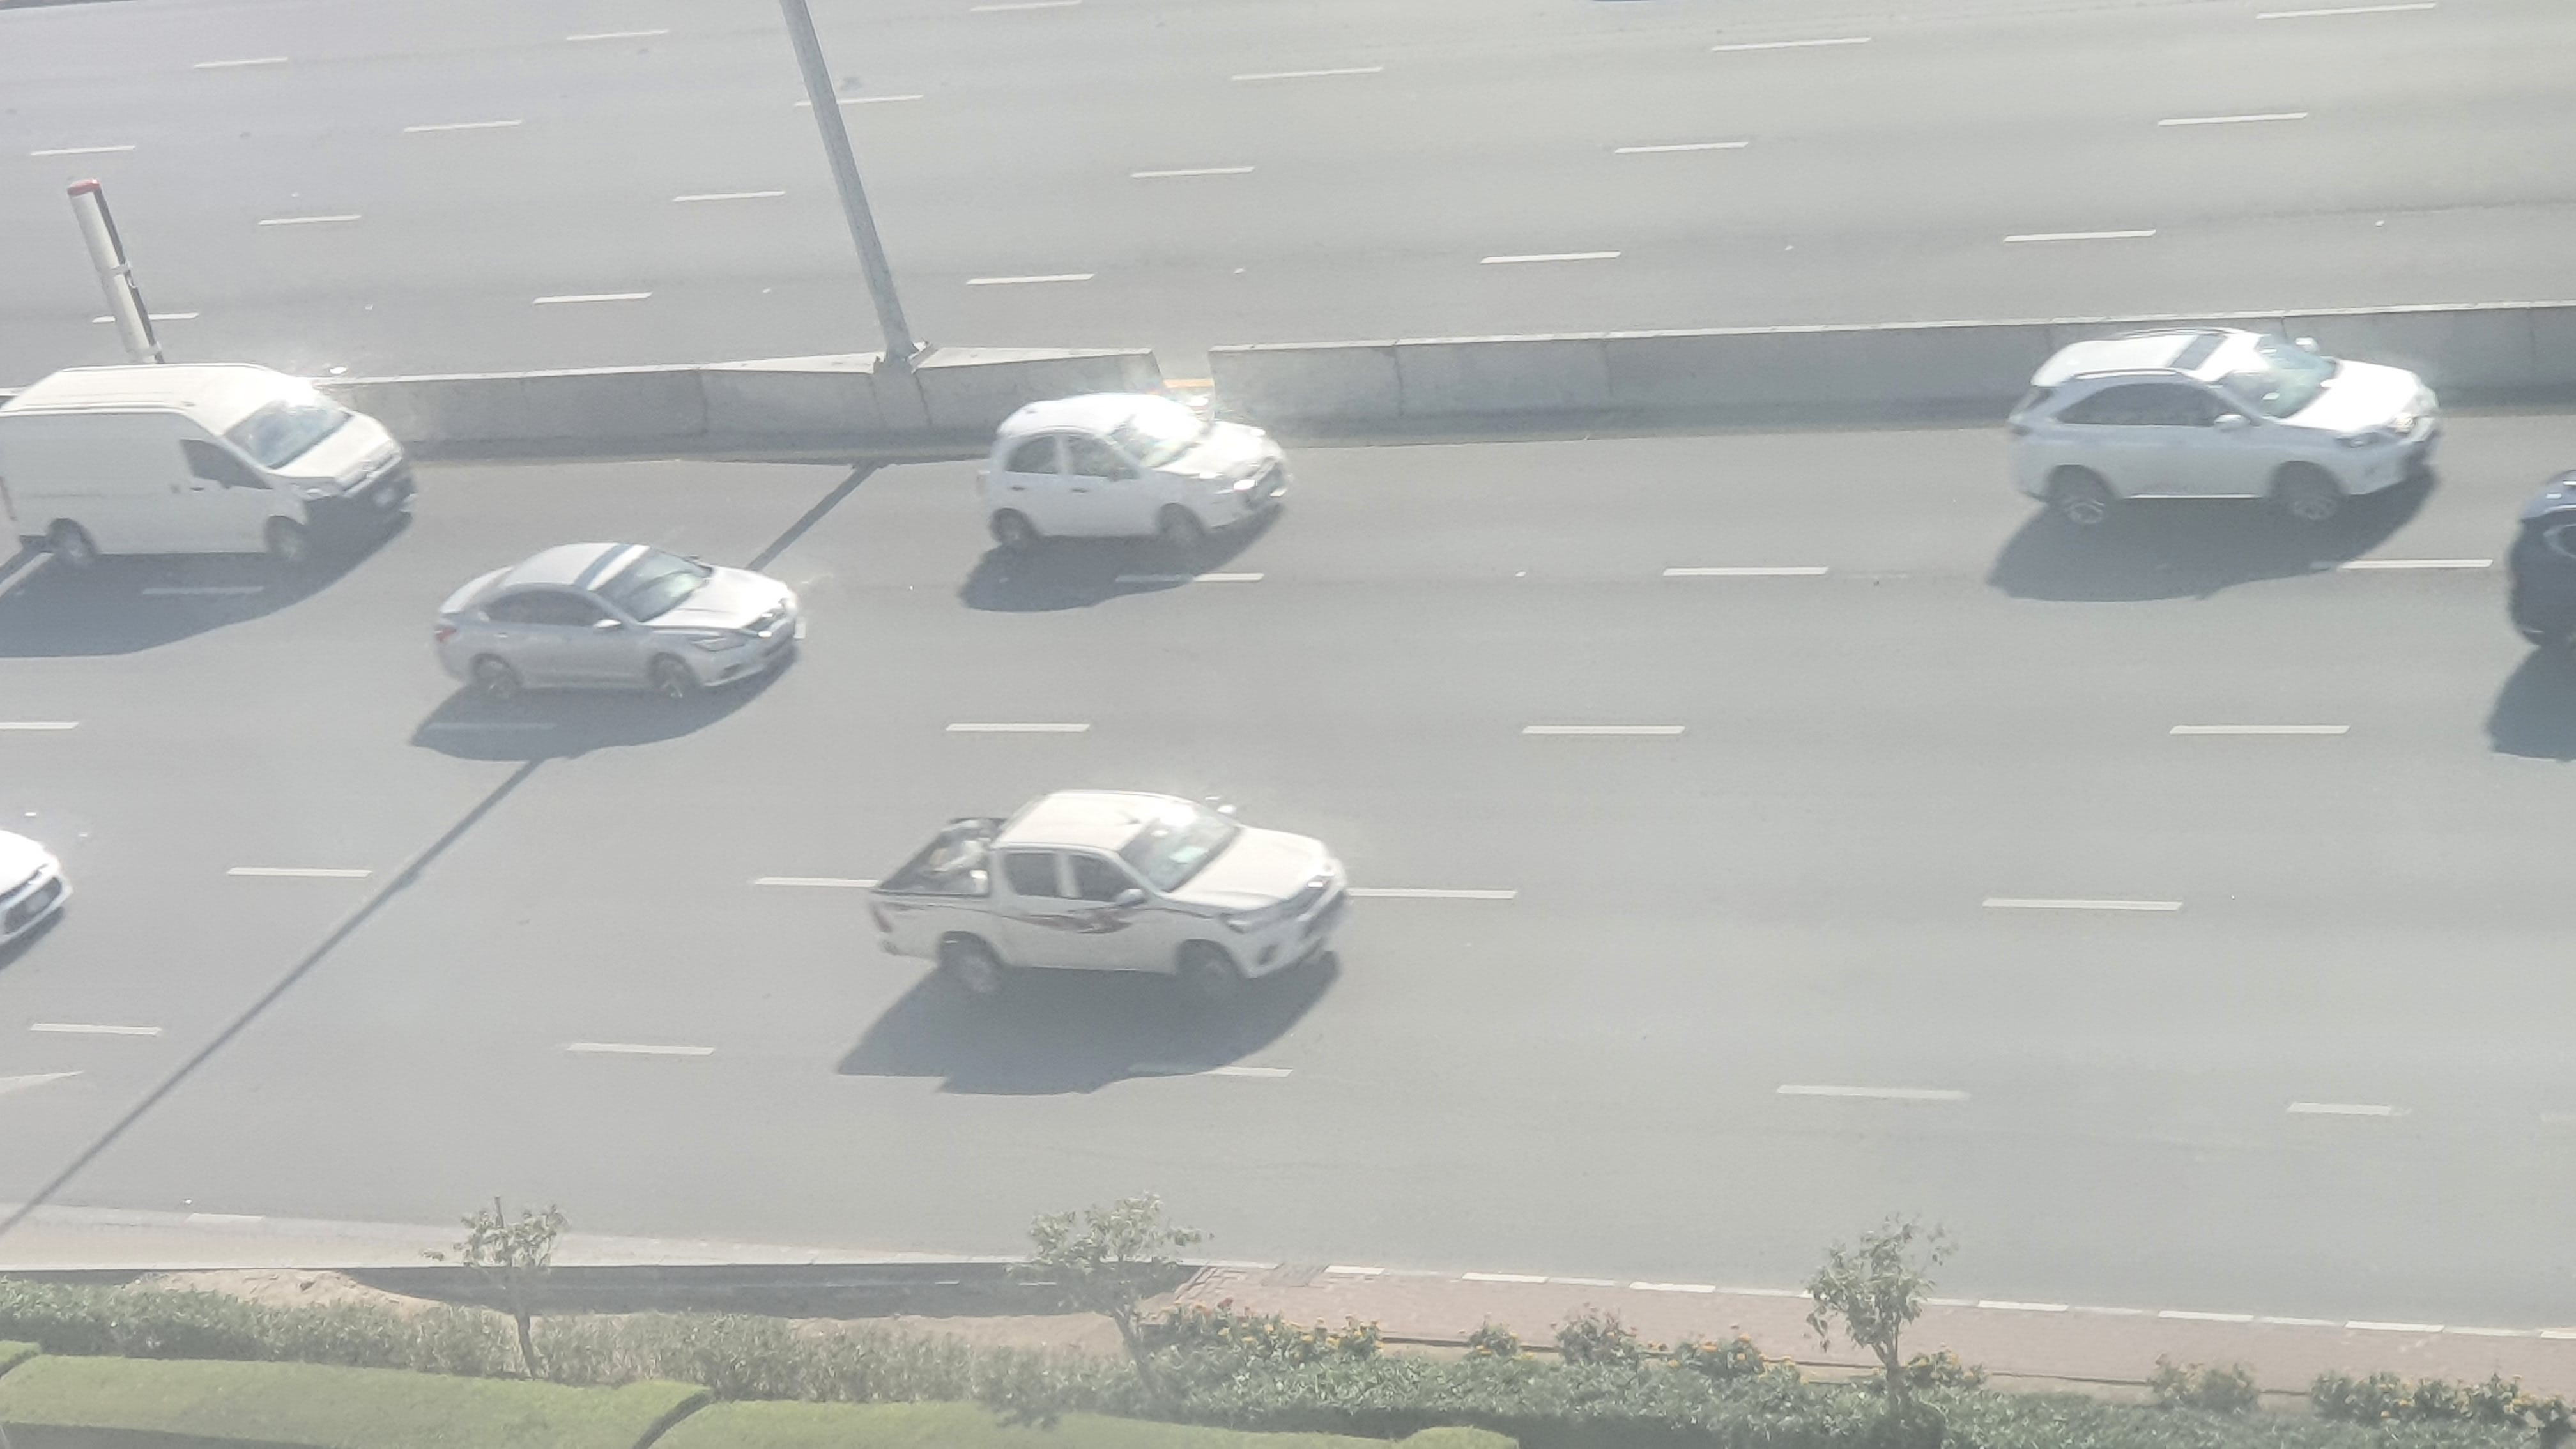NotSunroof: (426, 547, 803, 708), (968, 391, 1299, 566)
Sunroof: (1996, 317, 2465, 533)
